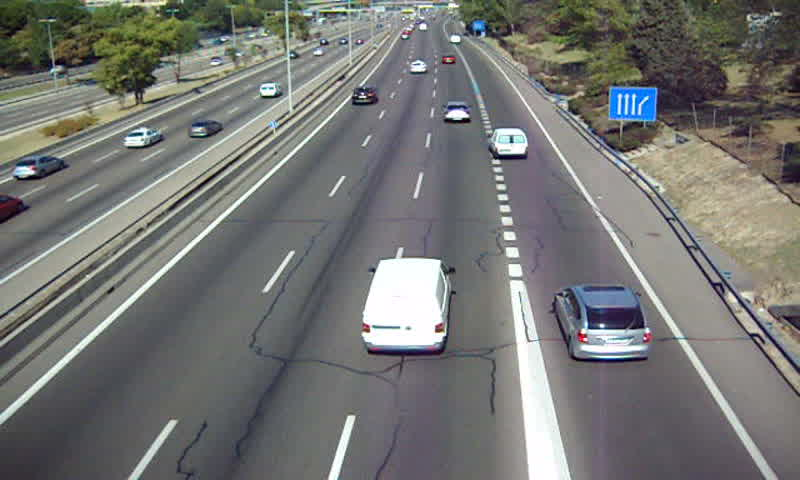car: (557, 285, 648, 358), (441, 100, 474, 124), (351, 86, 377, 106), (409, 58, 428, 74), (441, 53, 457, 66)
van: (363, 258, 446, 354), (488, 129, 529, 159)
